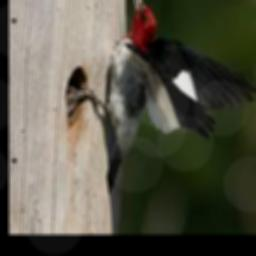Woodpecker: (68, 0, 255, 192)
